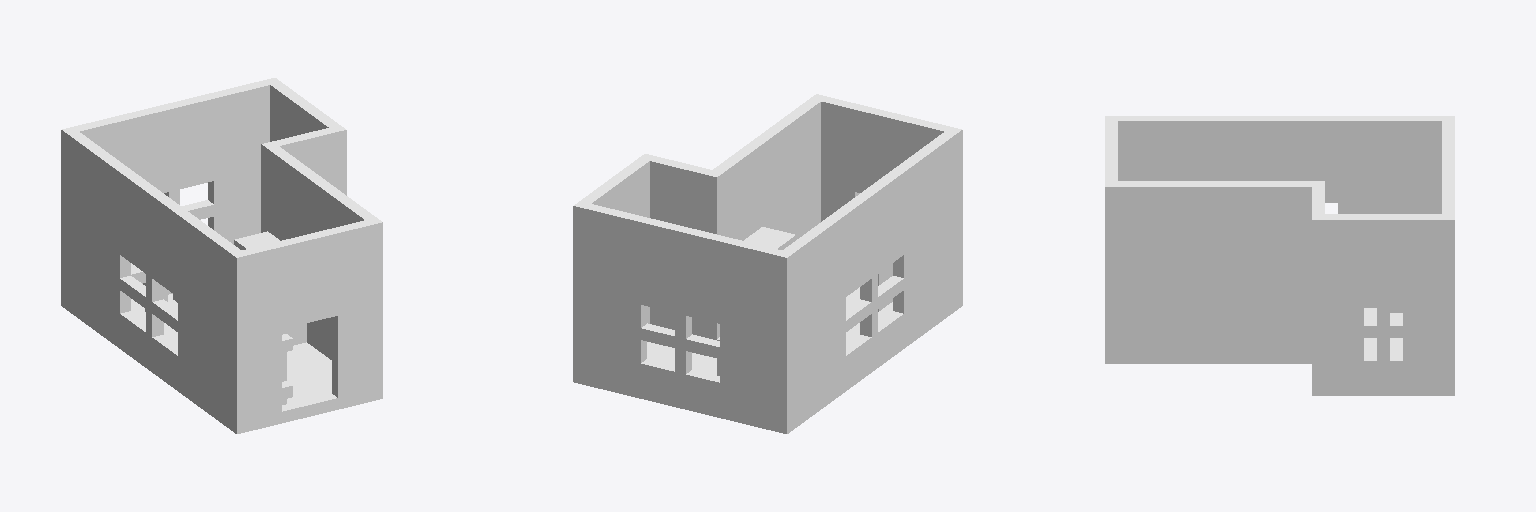
File: murs_maison_ville_riche_2.obj
3 views of the same model, side by side, from view 1: azimuth 30°, elevation 25°; view 2: azimuth 150°, elevation 25°; view 3: azimuth 270°, elevation 25° (orthographic).
Visible parts, largest first — view 1: murs_maison_ville_riche_2; view 2: murs_maison_ville_riche_2; view 3: murs_maison_ville_riche_2.
Part boxes in pixels (x1,y1,x2,y2): murs_maison_ville_riche_2: (61, 78, 382, 433); murs_maison_ville_riche_2: (573, 94, 962, 433); murs_maison_ville_riche_2: (1105, 116, 1454, 395).
Bounding box in the file's own units: 19 × 15 × 27.